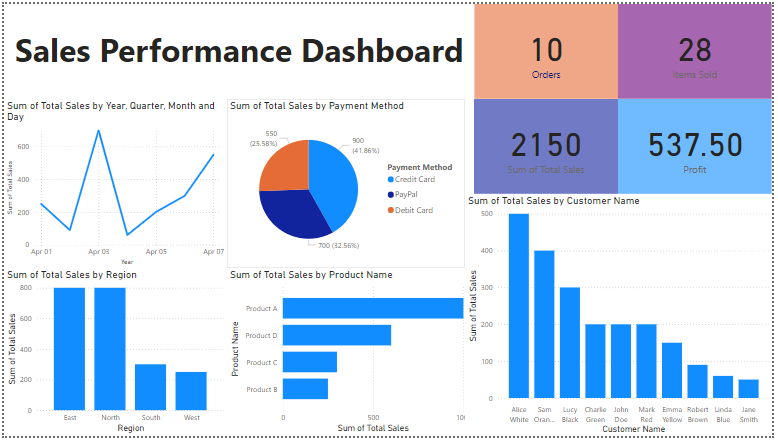

Layout of this report page (visuals, bound fields, positions):
{"tool":"powerbi","page":{"name":"Page 1","canvas":[1280,720],"ordinal":0},"visuals":[{"type":"columnChart","fields":{"Category":["Table.Region"],"Y":["Sum(Table.Total Sales)"]},"box":[0,440,372,280],"z":0},{"type":"card","fields":{"Values":["Sum(Table.Total Sales)"]},"box":[784,158,240,158],"z":2},{"type":"card","fields":{"Values":["Table.Profit"]},"box":[1024,158,256,158],"z":3},{"type":"card","fields":{"Values":["Table.Orders"]},"box":[784,0,240,158],"z":4},{"type":"card","fields":{"Values":["Table.Items Sold"]},"box":[1024,0,256,158],"z":5},{"type":"lineChart","fields":{"Y":["Sum(Table.Total Sales)"],"Category":["Table.Date.Variation.Date Hierarchy.Year","Table.Date.Variation.Date Hierarchy.Quarter","Table.Date.Variation.Date Hierarchy.Month","Table.Date.Variation.Date Hierarchy.Day"]},"box":[0,158,372,282],"z":6},{"type":"clusteredBarChart","fields":{"Category":["Table.Product Name"],"Y":["Sum(Table.Total Sales)"]},"box":[372,440,412,280],"z":7},{"type":"pieChart","fields":{"Category":["Table.Payment Method"],"Y":["Sum(Table.Total Sales)"]},"box":[372,158,396,282],"z":8},{"type":"columnChart","fields":{"Category":["Table.Customer Name"],"Y":["Sum(Table.Total Sales)"]},"box":[768,316,512,404],"z":9},{"type":"textbox","box":[0,0,784,158],"z":10}]}

Visuals, with their boxes in screenshot pixels (x1, y1, x2, y2), scaled from the page's 1280x720 canvas onto the 778x441 screenshot:
columnChart - Table.Region x Sum(Table.Total Sales): bbox=(0, 270, 226, 440)
card - Sum(Table.Total Sales): bbox=(477, 97, 622, 194)
card - Table.Profit: bbox=(622, 97, 777, 194)
card - Table.Orders: bbox=(477, 0, 622, 97)
card - Table.Items Sold: bbox=(622, 0, 777, 97)
lineChart - Sum(Table.Total Sales) x Table.Date.Variation.Date Hierarchy.Year: bbox=(0, 97, 226, 270)
clusteredBarChart - Table.Product Name x Sum(Table.Total Sales): bbox=(226, 270, 477, 440)
pieChart - Table.Payment Method x Sum(Table.Total Sales): bbox=(226, 97, 467, 270)
columnChart - Table.Customer Name x Sum(Table.Total Sales): bbox=(467, 194, 777, 440)
textbox: bbox=(0, 0, 477, 97)
